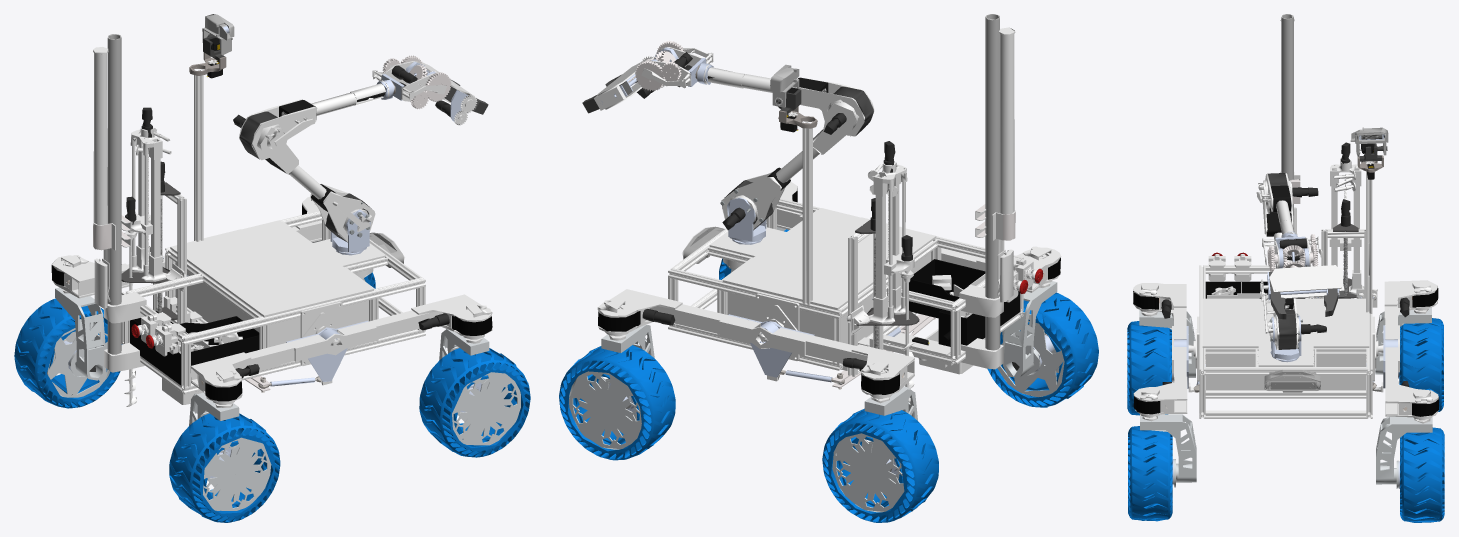
Rendered from avyaan-optimized.glb.
The picture shows the model from 3 angles, left to right: view 1: azimuth 30°, elevation 25°; view 2: azimuth 150°, elevation 25°; view 3: azimuth 270°, elevation 25°; orthographic projection. The views are drawn at different scales.
Bounding box in the file's own units: 1.25 × 1.31 × 0.9903.
